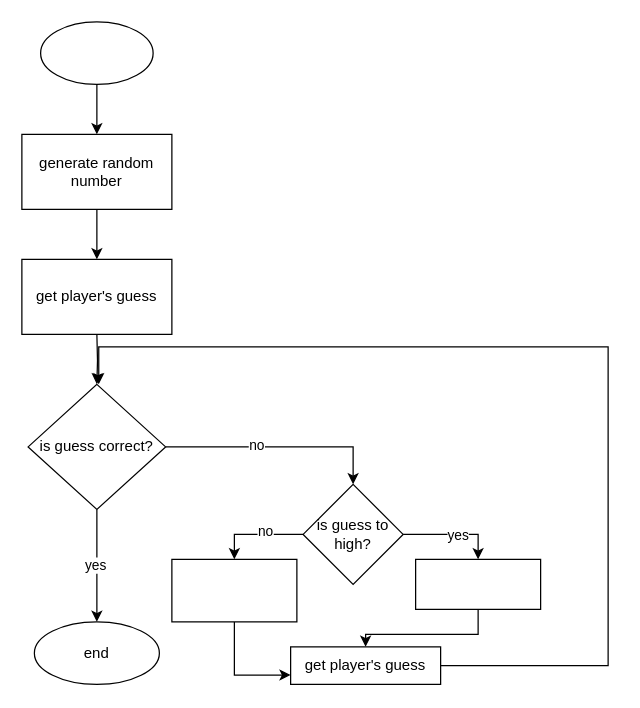
The diagram is 640 pixels wide and 708 high, and some of its shapes have lost their labels. Each missing label, with the box of its shape:
print "your number is too high": (414, 558, 541, 609)
print "your number is too low": (171, 558, 297, 622)
start: (39, 21, 153, 84)
